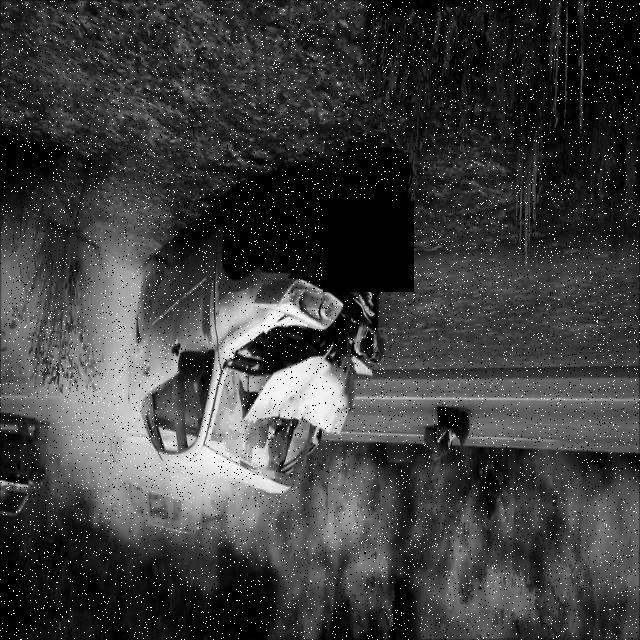severe: (122, 196, 386, 498)
